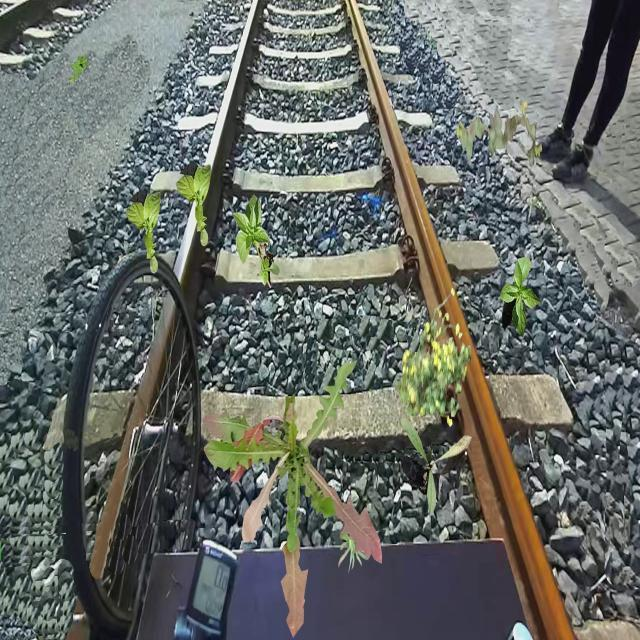Plant: (203, 361, 383, 639), (396, 288, 471, 428), (400, 417, 472, 516), (456, 99, 542, 168), (232, 194, 280, 289), (500, 257, 542, 337), (176, 163, 212, 247), (125, 190, 160, 274), (338, 528, 370, 574), (69, 52, 88, 84)
